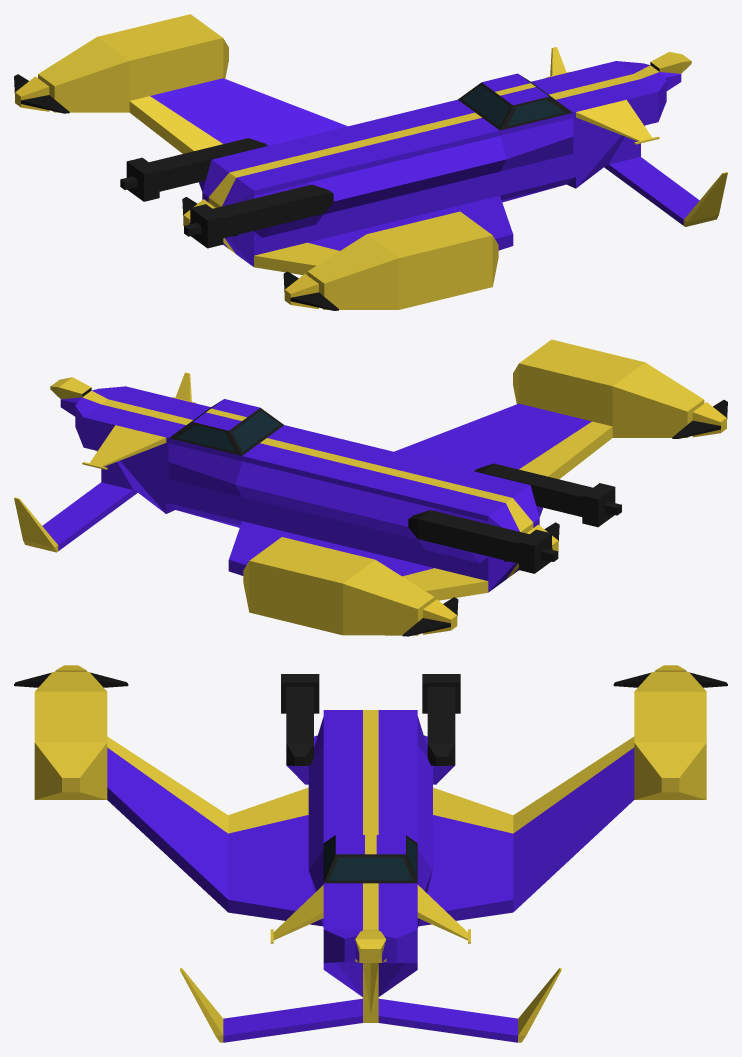
File: Daemon.fbx
3 views of the same model, one above another, from view 1: azimuth 30°, elevation 25°; view 2: azimuth 150°, elevation 25°; view 3: azimuth 270°, elevation 25° (orthographic). The views are drawn at different scales.
Parts seen in each view (by area): view 1: Cube, Cube.002, Cube.001; view 2: Cube, Cube.002, Cube.001; view 3: Cube, Cube.001, Cube.002.
Part boxes in pixels (box(x1,y1,x2,y2)): Cube: box(38, 14, 727, 309); Cube.002: box(14, 74, 69, 113); Cube.001: box(283, 271, 338, 310); Cube: box(14, 339, 704, 635); Cube.002: box(402, 597, 458, 636); Cube.001: box(672, 400, 727, 438); Cube: box(34, 672, 706, 1042); Cube.001: box(14, 665, 128, 687); Cube.002: box(613, 665, 727, 687).
Size of the model in its own units: 1458 by 313 by 1518.
